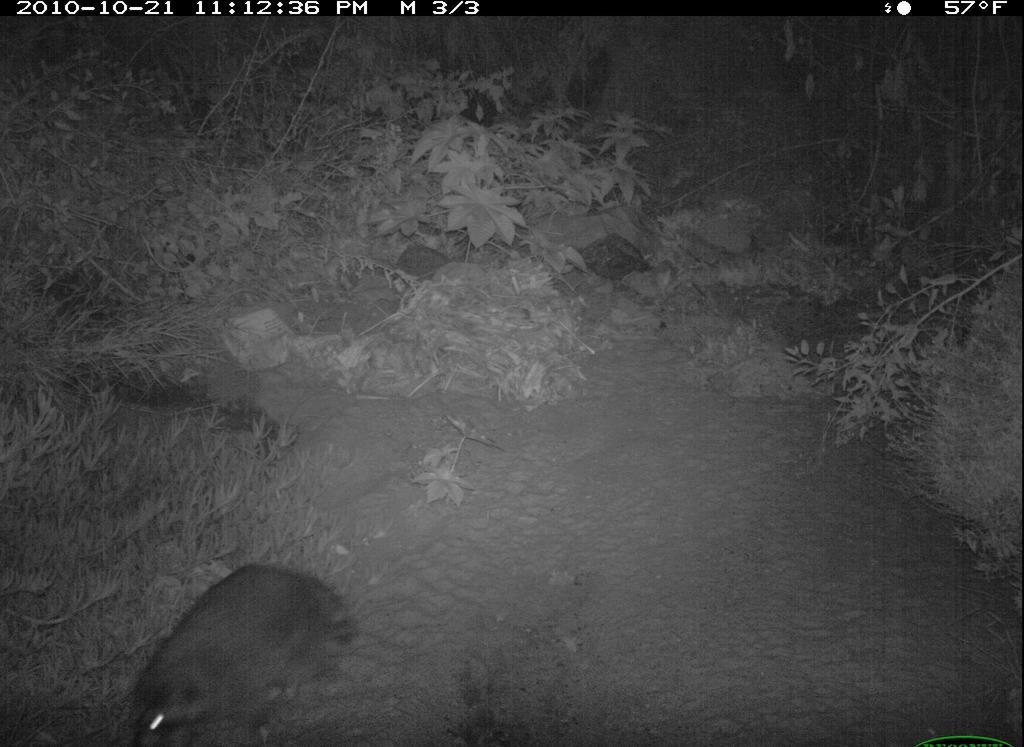raccoon: (121, 559, 363, 747)
